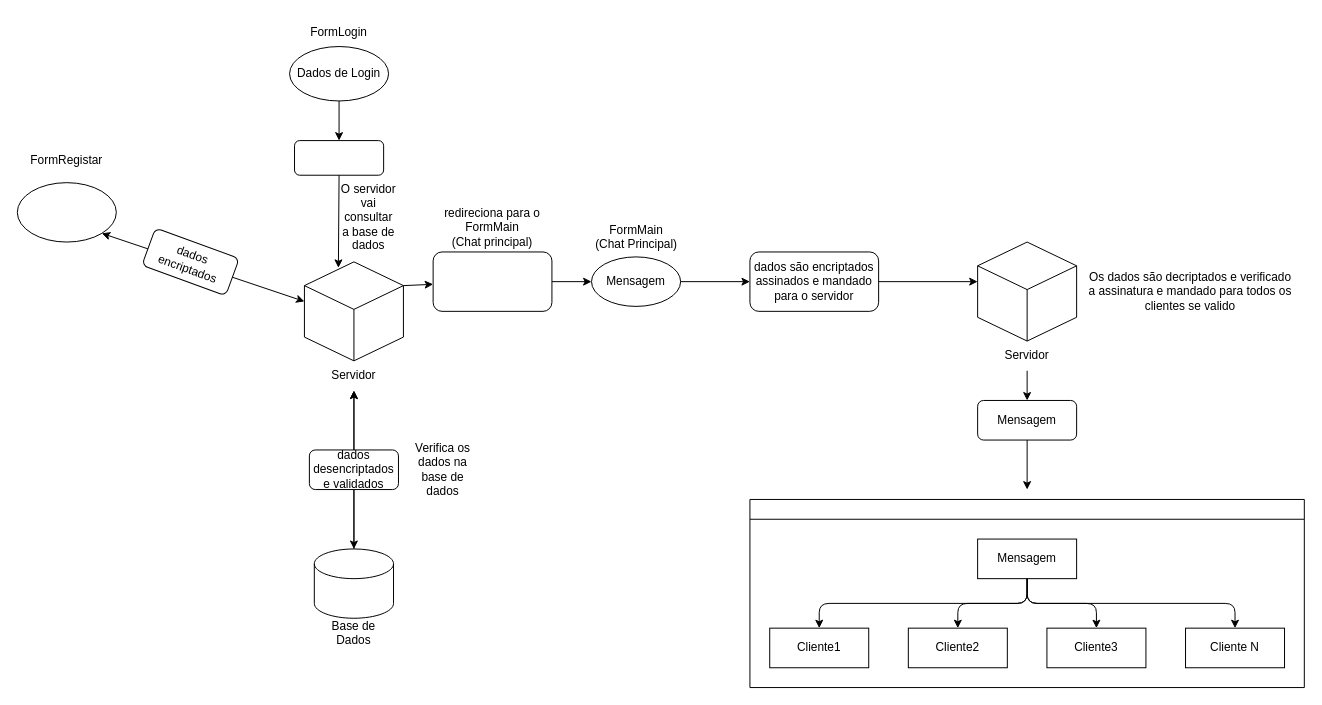
The diagram is 1322 pixels wide and 705 high, and some of its shapes have lost their labels. The shapes that lost their labels are listed below. From the top down, each one's box as (x1, y1, x2, y2) in pixels, then its label:
(294, 140, 384, 175): dados de login encriptados
(16, 182, 116, 242): Registro de dados
(432, 251, 552, 311): manda a foto de perfil como resposta que deu certo
(313, 548, 394, 618): UserData
(749, 498, 1304, 688): Mensagens
